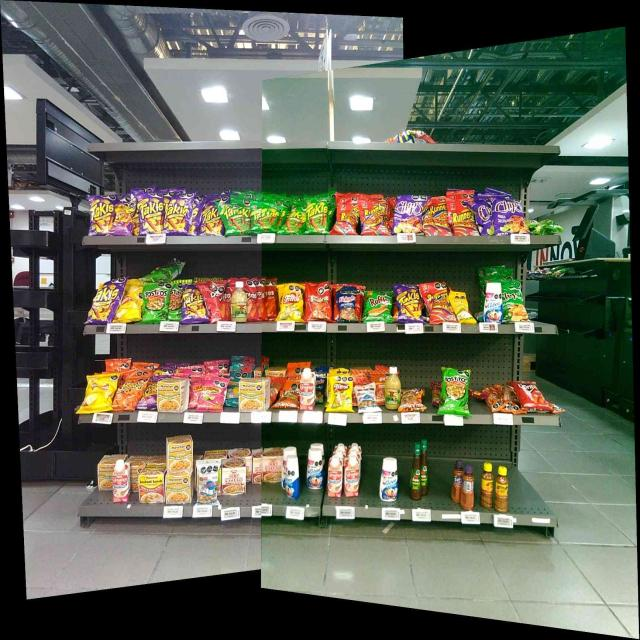bokadosCacahuates: (336, 288, 356, 322)
botaneraChilito: (495, 466, 508, 512), (482, 464, 493, 506)
cheetosFlaminHot: (138, 197, 162, 233), (165, 200, 190, 233), (115, 206, 132, 236), (202, 204, 216, 235)
cheetosOriginal: (251, 202, 277, 232), (115, 379, 139, 411), (222, 205, 248, 234), (306, 202, 328, 234), (282, 206, 304, 235)
chipsFuego: (492, 198, 522, 235), (394, 197, 421, 235), (475, 200, 489, 235)
chipsJalapeno: (503, 282, 525, 321)
churrumais: (199, 377, 224, 412)
delPrimoSalsa: (384, 368, 399, 408), (232, 282, 246, 322)
doritosNacho: (204, 286, 227, 322), (516, 381, 541, 410), (248, 286, 266, 321)
fritosLimon: (278, 284, 302, 323), (328, 375, 351, 413)
leoCacahuates: (196, 461, 218, 504), (355, 385, 378, 414)
leoMix: (402, 391, 424, 411)
maruchanPollo: (239, 379, 270, 409), (167, 437, 192, 473), (158, 382, 186, 412), (166, 476, 192, 504)
maruchanRes: (138, 469, 165, 503)
nestleCarnation: (113, 460, 130, 503), (299, 369, 315, 409), (344, 458, 358, 496), (328, 460, 341, 497)
nestleLechera: (484, 283, 502, 323), (380, 458, 396, 501), (307, 450, 322, 488), (285, 459, 298, 497)
nissinRes: (222, 460, 243, 494)
rancheritos: (306, 283, 332, 322)
rufflesQueso: (364, 290, 391, 320)
runners: (446, 199, 474, 236), (359, 200, 388, 235), (422, 284, 448, 322), (424, 200, 444, 237), (334, 200, 356, 233)
sabritasOriginal: (82, 376, 111, 412), (118, 284, 141, 320)
salsaBufalo: (410, 443, 421, 499)
semillasCalabaza: (449, 292, 471, 323)
tajinDulce: (461, 469, 474, 510)
takisFuego: (92, 284, 117, 323), (89, 196, 113, 234), (395, 286, 418, 321), (182, 289, 202, 322)
tostitos: (443, 368, 469, 416), (143, 284, 167, 322)
